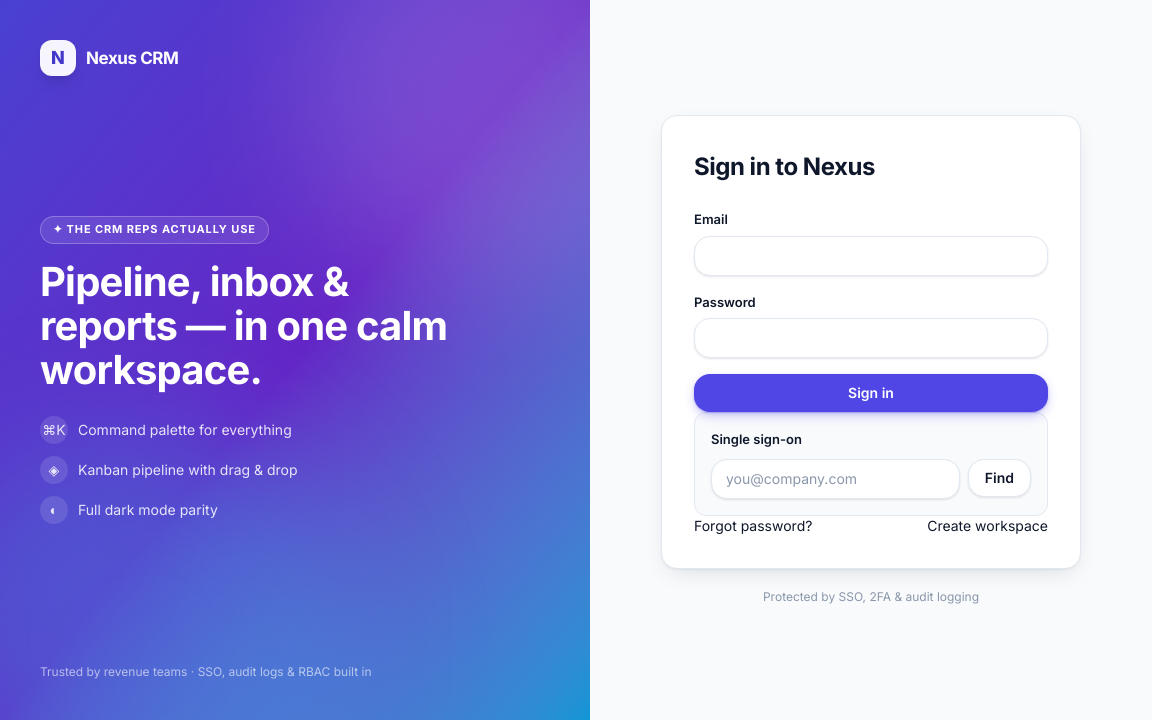
Test: login page › submits credentials and surfaces server errors
The width and height of the screenshot is (1152, 720).
Type "a@b.co" into the field labelled "Email".
click(871, 256); type("a@b.co")  # box [694, 236, 1048, 276]
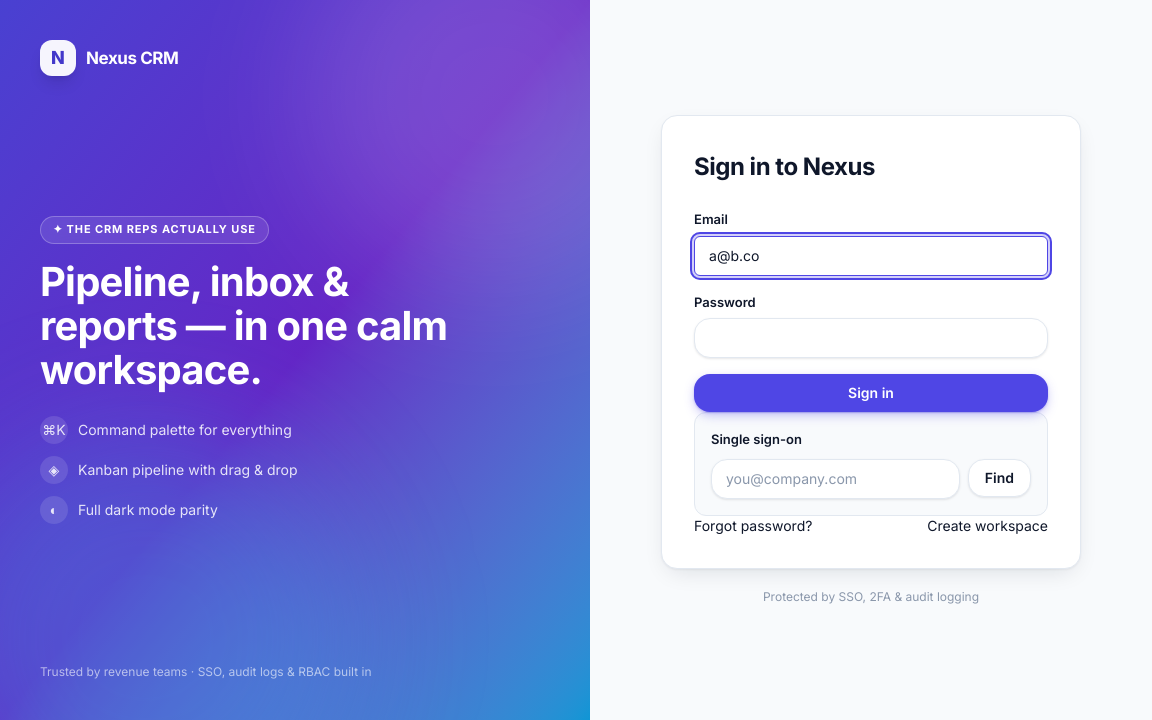
Type "wrong-password-99" into the password field labelled "Password".
click(871, 338); type("wrong-password-99")  # box [694, 318, 1048, 358]
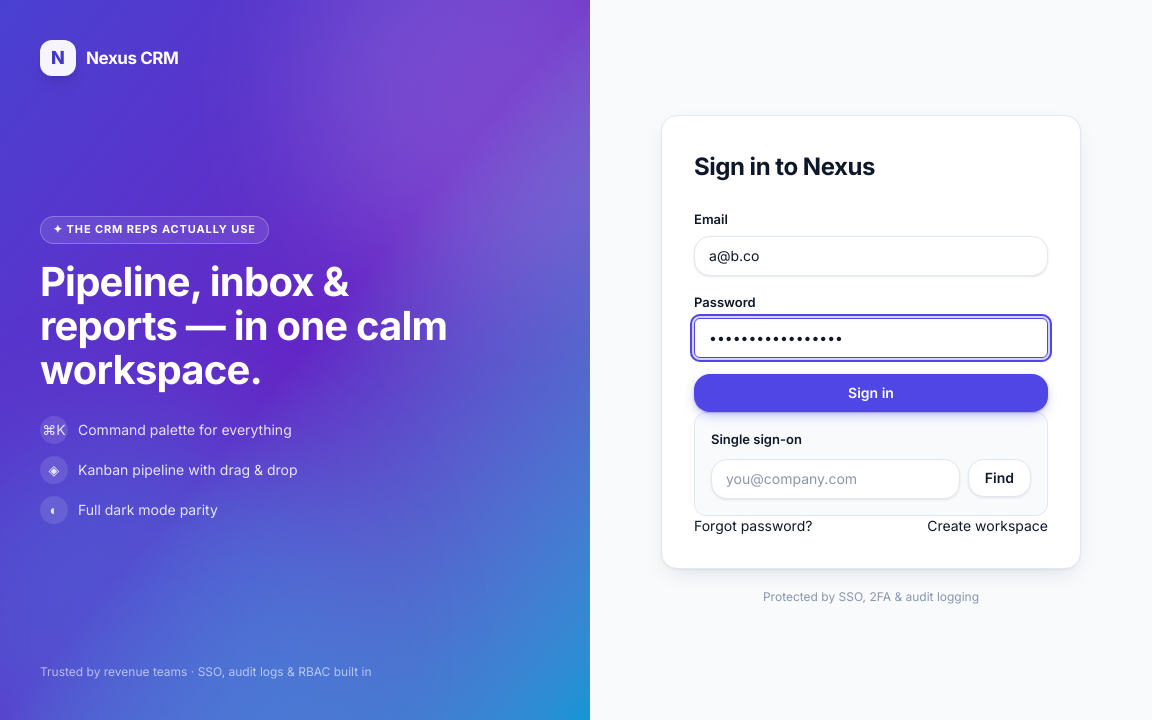
Click the button "Sign in".
click(871, 393)  # box [694, 374, 1048, 412]
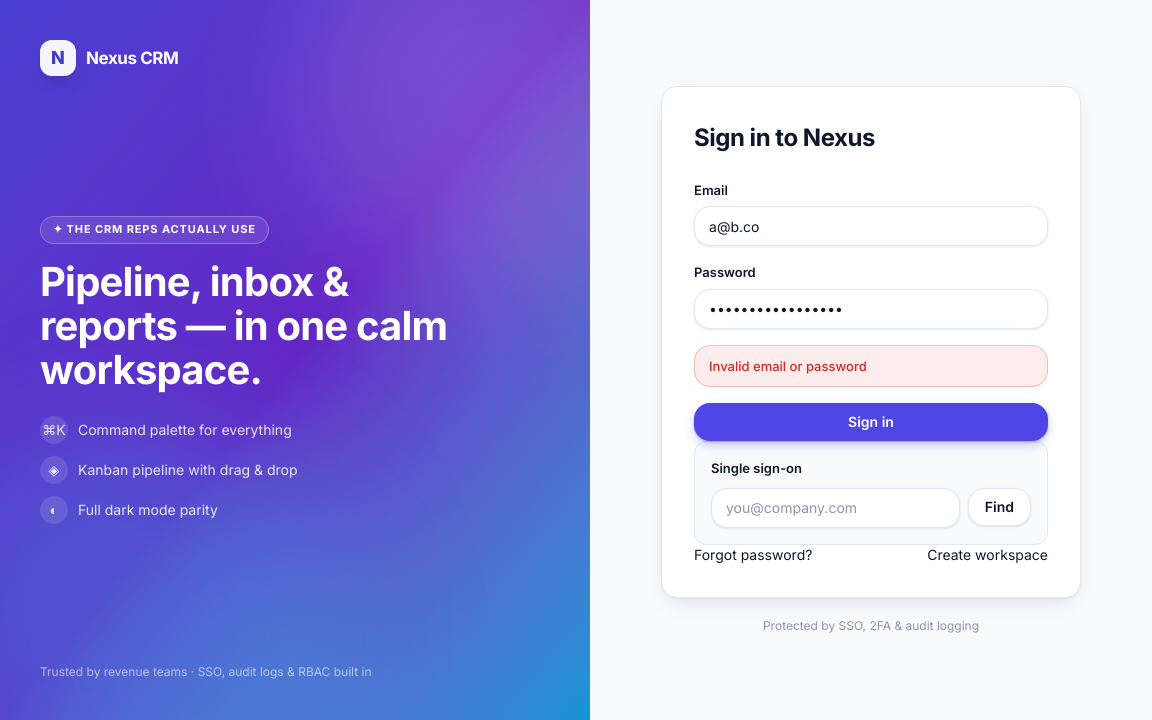
Expected: the text "Invalid email or password" is shown, [694, 345, 1048, 387]
